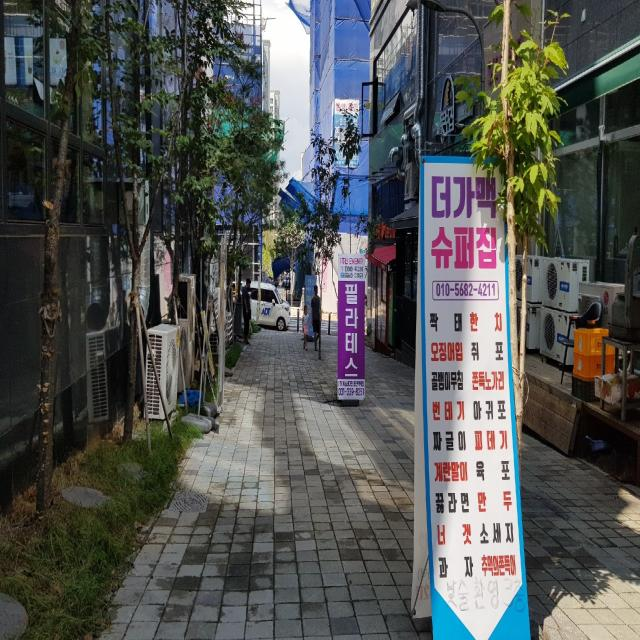횡단보도: (287, 317, 338, 332)
